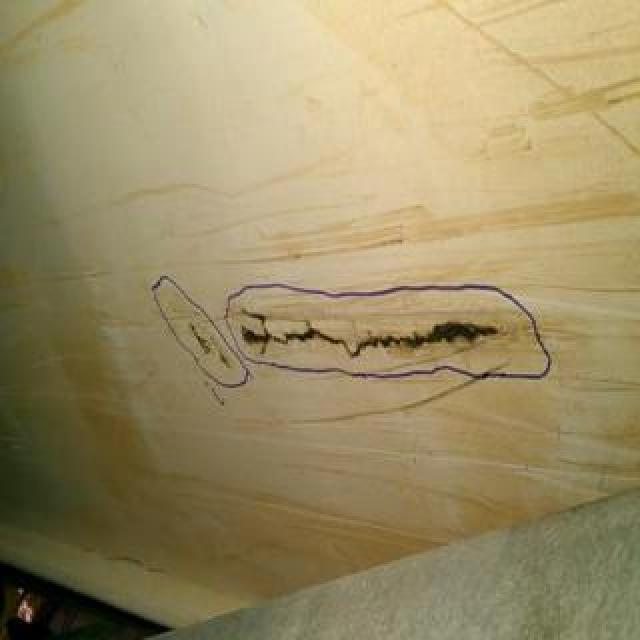crack: (241, 310, 503, 362), (189, 319, 237, 375)
